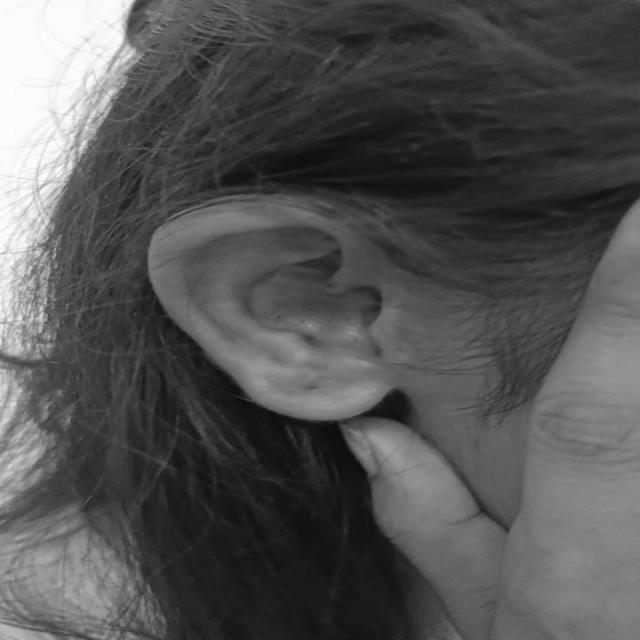ear: (148, 197, 394, 420)
